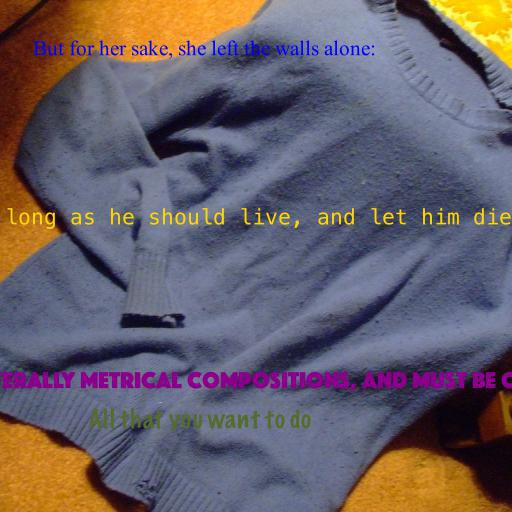Marker Felt: (87, 407, 311, 433)
Menlo: (0, 208, 512, 229)
Phosphate: (0, 371, 512, 391)
Times New Roman: (32, 40, 376, 59)
